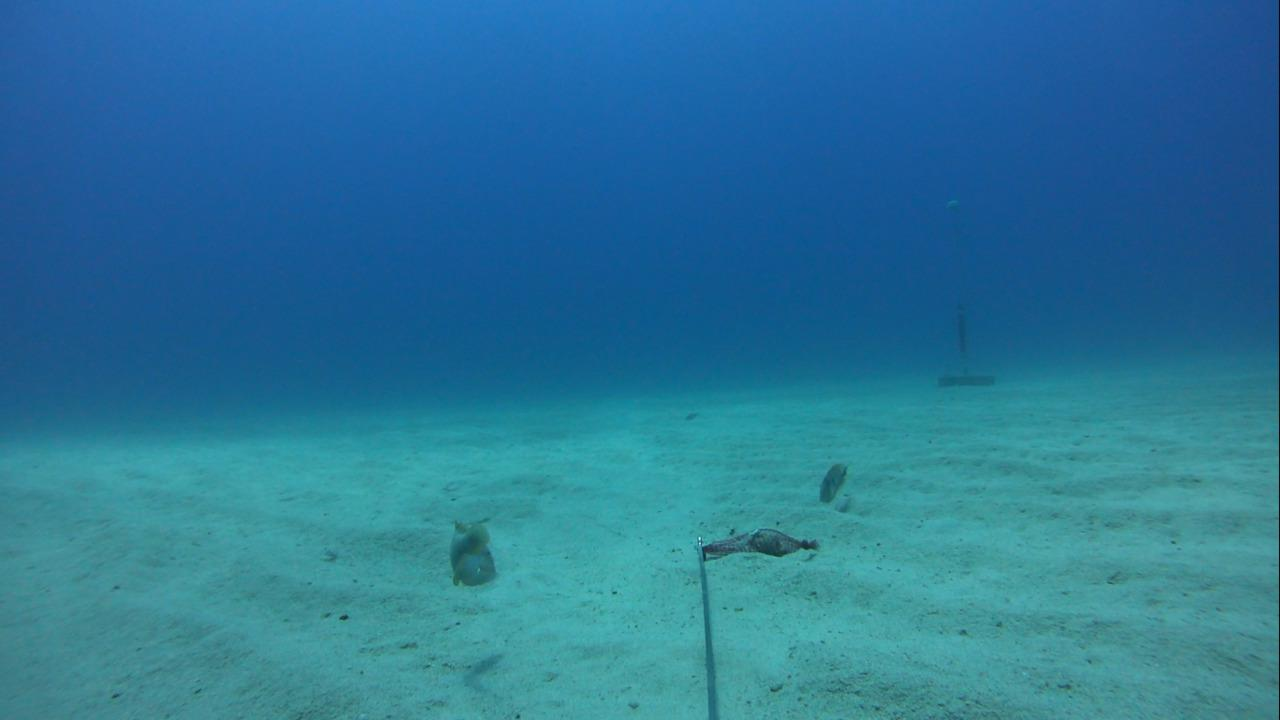raor: (426, 507, 510, 593), (807, 453, 862, 510)
